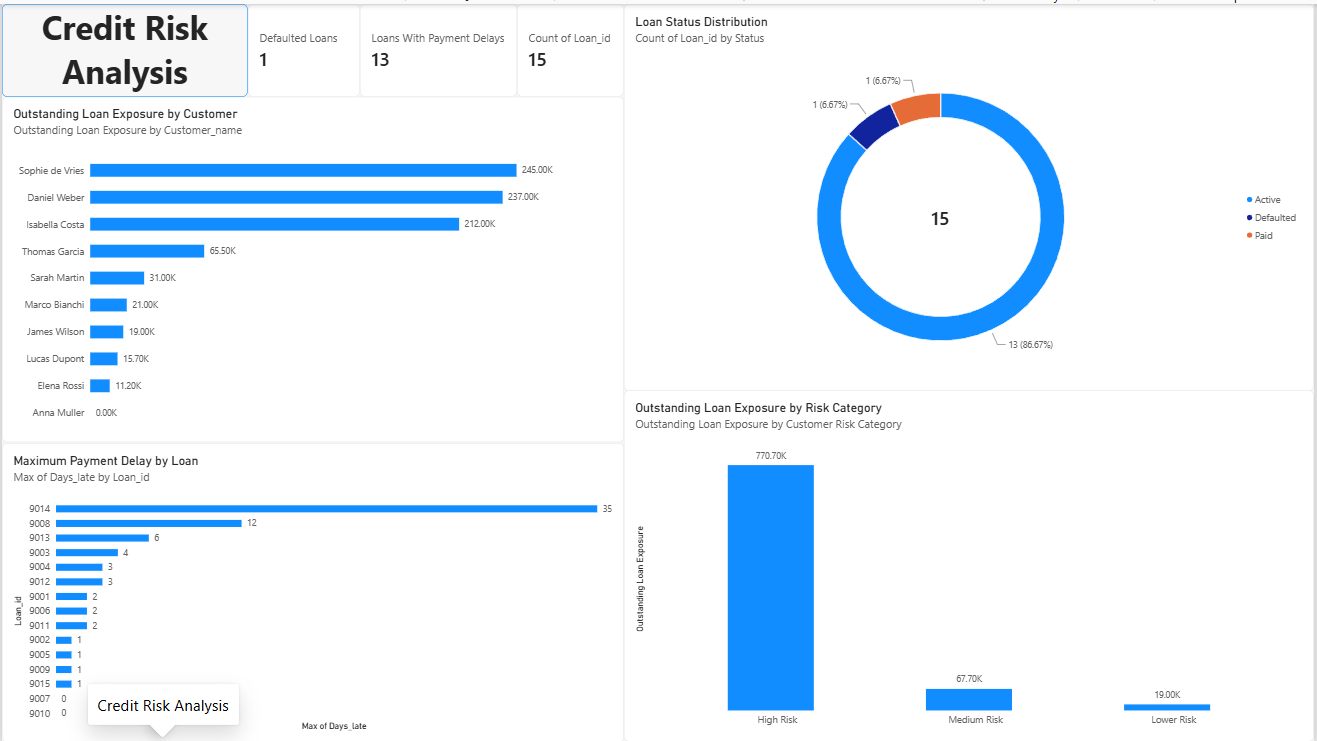

The dashboard page shown, as its layout file describes it:
{"tool":"powerbi","page":{"name":"Credit Risk Analysis","canvas":[1920,1080],"ordinal":1},"visuals":[{"type":"clusteredBarChart","title":"Outstanding Loan Exposure by Customer","fields":{"Category":["Customers.Customer_name"],"Y":["Loans.Outstanding Loan Exposure"]},"box":[0,136,910,506],"z":0},{"type":"clusteredBarChart","title":"Maximum Payment Delay by Loan","fields":{"Category":["Loans.Loan_id"],"Y":["Max(Payments.Days_late)"]},"box":[0,642,910,438],"z":1000},{"type":"clusteredColumnChart","title":"Outstanding Loan Exposure by Risk Category","fields":{"Category":["Customers.Customer Risk Category"],"Y":["Loans.Outstanding Loan Exposure"]},"box":[910,566,1010,514],"z":2000},{"type":"cardVisual","fields":{"Data":["Loans.Defaulted Loans"]},"box":[360,0,164,136],"z":3000},{"type":"cardVisual","fields":{"Data":["Loans.Loans With Payment Delays"]},"box":[524,0,230,136],"z":4000},{"type":"donutChart","title":"Loan Status Distribution","fields":{"Category":["Loans.Status"],"Y":["CountNonNull(Loans.Loan_id)"]},"box":[910,0,1010,566],"z":4001},{"type":"cardVisual","title":"Total Loans","fields":{"Data":["CountNonNull(Loans.Loan_id)"]},"box":[754,0,156,136],"z":4002},{"type":"textbox","box":[100,100,300,300],"z":4003},{"type":"textbox","box":[100,100,300,300],"z":4004},{"type":"textbox","box":[0,0,360,136],"z":4005}]}

Visuals, with their boxes in screenshot pixels (x1, y1, x2, y2), scaled from the page's 1920x1080 canvas onto the 1317x741 screenshot:
"Outstanding Loan Exposure by Customer" clusteredBarChart: <region>0, 93, 624, 440</region>
"Maximum Payment Delay by Loan" clusteredBarChart: <region>0, 440, 624, 740</region>
"Outstanding Loan Exposure by Risk Category" clusteredColumnChart: <region>624, 388, 1316, 740</region>
cardVisual - Loans.Defaulted Loans: <region>247, 0, 359, 93</region>
cardVisual - Loans.Loans With Payment Delays: <region>359, 0, 517, 93</region>
"Loan Status Distribution" donutChart: <region>624, 0, 1316, 388</region>
"Total Loans" cardVisual: <region>517, 0, 624, 93</region>
textbox: <region>69, 69, 274, 274</region>
textbox: <region>69, 69, 274, 274</region>
textbox: <region>0, 0, 247, 93</region>
